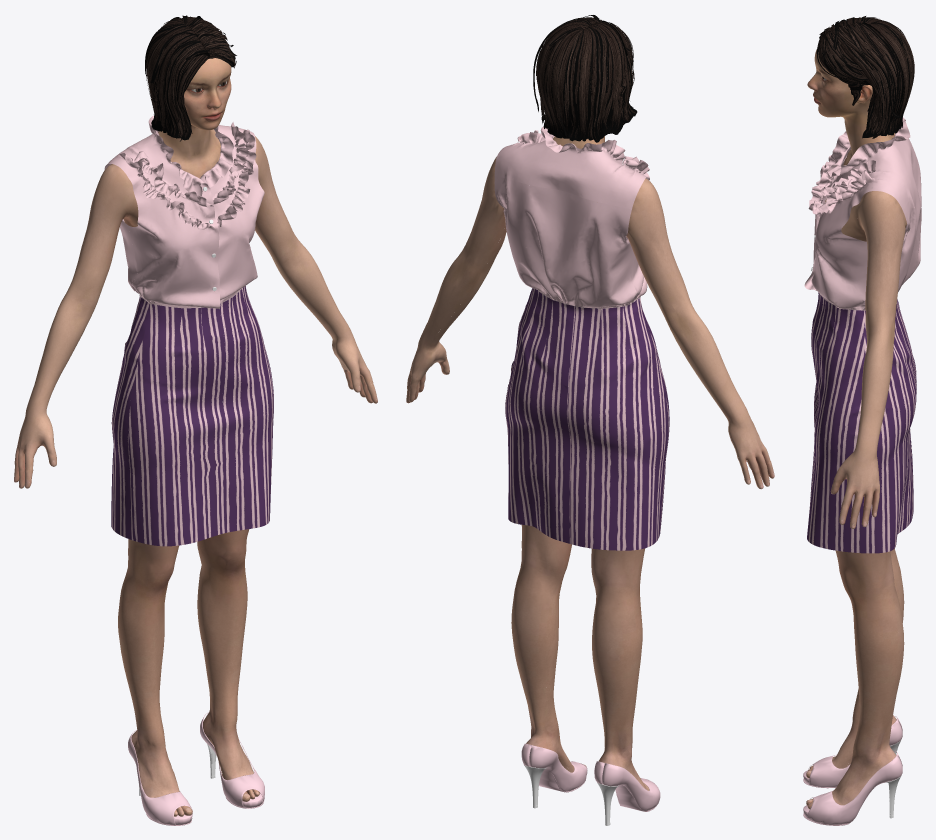
3 renders of one model, left to right at view 1: azimuth 30°, elevation 25°; view 2: azimuth 150°, elevation 25°; view 3: azimuth 270°, elevation 25°, orthographic.
Visible parts, largest first — view 1: Cloth, Avatar; view 2: Cloth, Avatar; view 3: Avatar, Cloth.
Part boxes in pixels (x1,y1,x2,y2): Cloth: [104, 115, 273, 546]; Avatar: [14, 15, 377, 825]; Cloth: [494, 126, 669, 550]; Avatar: [406, 15, 774, 825]; Avatar: [803, 16, 914, 825]; Cloth: [804, 117, 921, 553].
Size of the model in its own units: 0.8025 by 1.68 by 0.2316.
16 materials, 13 textured.
